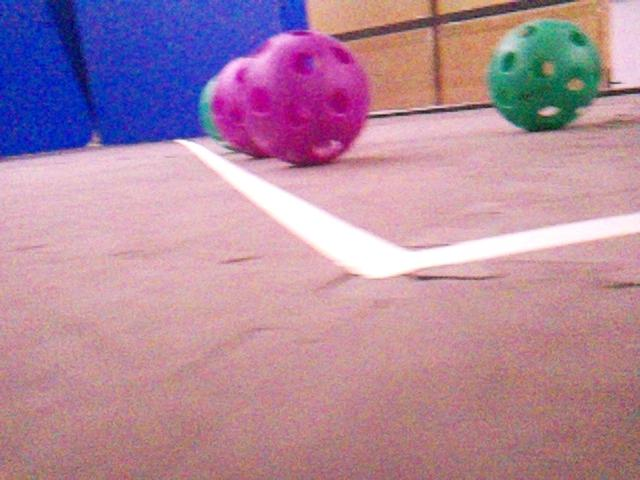Green: (483, 16, 603, 132), (197, 76, 227, 142)
Purple: (242, 31, 367, 164), (214, 54, 271, 158)
